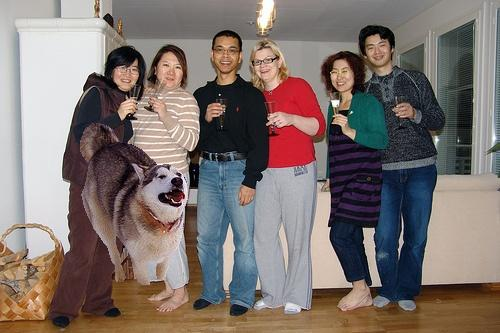tampered: (81, 124, 188, 285)
